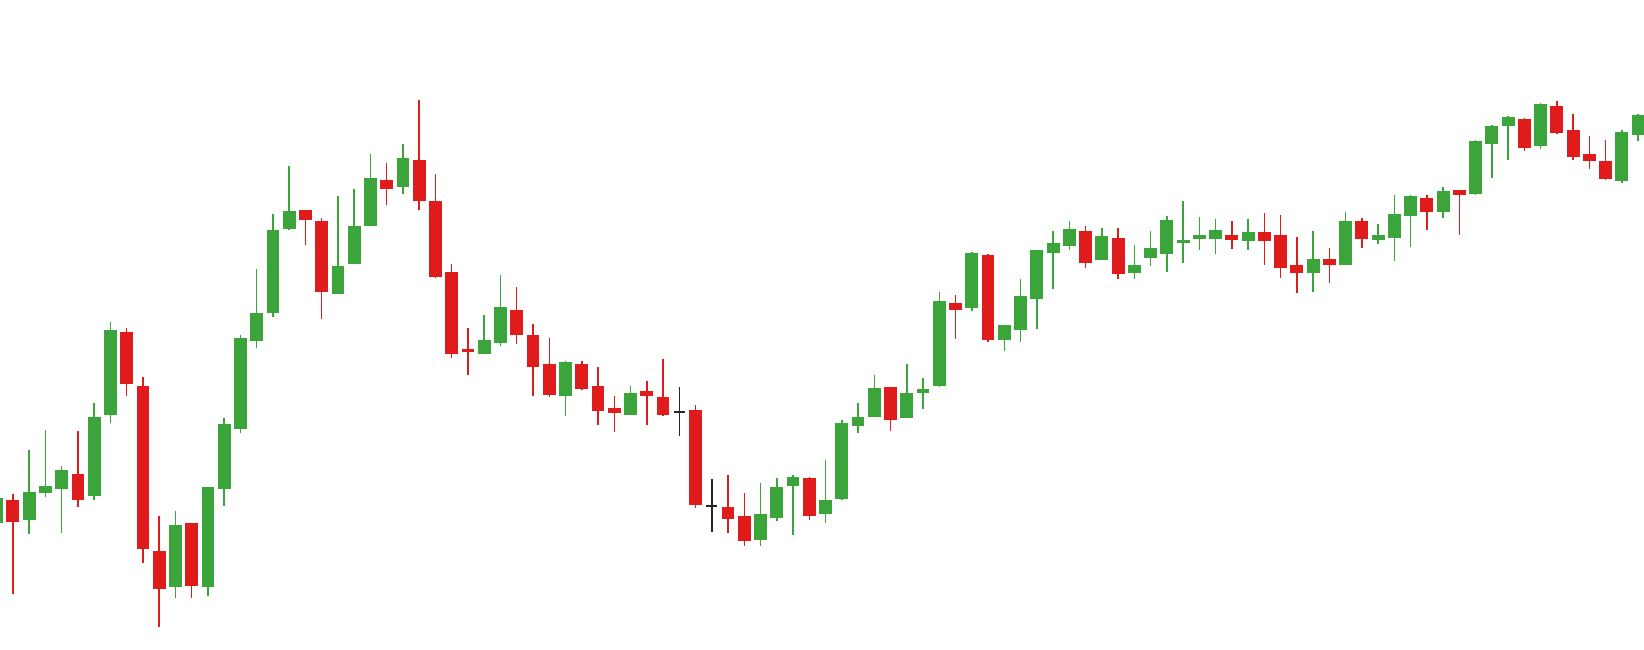buy: (8, 404, 183, 633)
